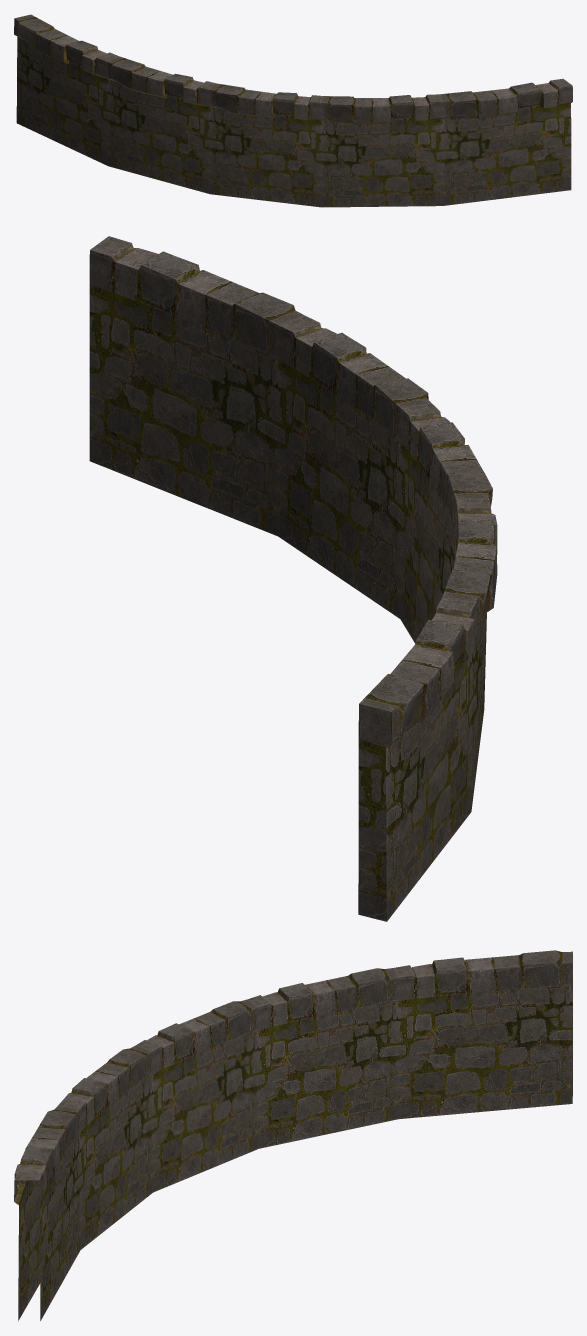
File: b_zx_shitai06_01.FBX
The picture shows the model from 3 angles, top to bottom: view 1: azimuth 30°, elevation 25°; view 2: azimuth 150°, elevation 25°; view 3: azimuth 270°, elevation 25°; orthographic projection. The views are drawn at different scales.
Parts seen in each view (by area): view 1: b_zx_shitai06_01; view 2: b_zx_shitai06_01; view 3: b_zx_shitai06_01.
Part boxes in pixels (x1,y1,x2,y2): b_zx_shitai06_01: (14, 14, 572, 207); b_zx_shitai06_01: (89, 236, 497, 921); b_zx_shitai06_01: (14, 950, 572, 1321).
Bounding box in the file's own units: 15.54 × 4.51 × 15.97.
